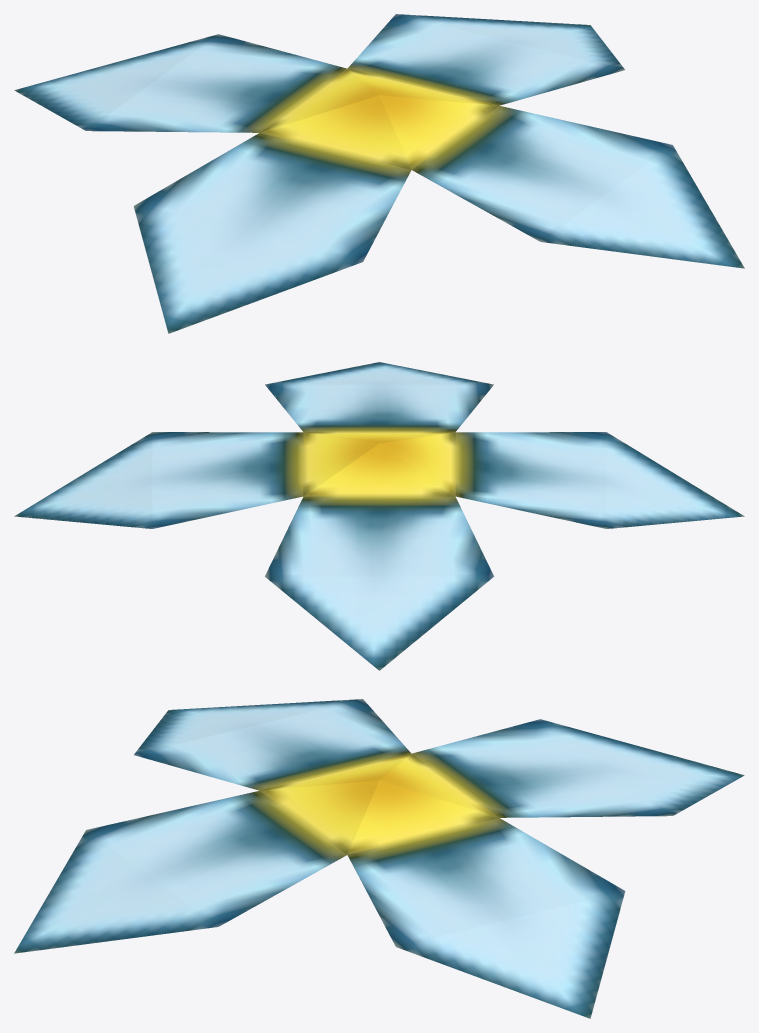
File: flower_0.glb
3 views of the same model, one above another, from view 1: azimuth 30°, elevation 25°; view 2: azimuth 150°, elevation 25°; view 3: azimuth 270°, elevation 25° (orthographic). The views are drawn at different scales.
Visible parts, largest first — view 1: flower_0; view 2: flower_0; view 3: flower_0.
Part boxes in pixels (box(x1,y1,x2,y2)): flower_0: box(14, 14, 744, 333); flower_0: box(14, 362, 744, 670); flower_0: box(14, 699, 744, 1018).
Bounding box in the file's own units: 1.38 × 0.1753 × 1.38.
1 material, 1 textured.
